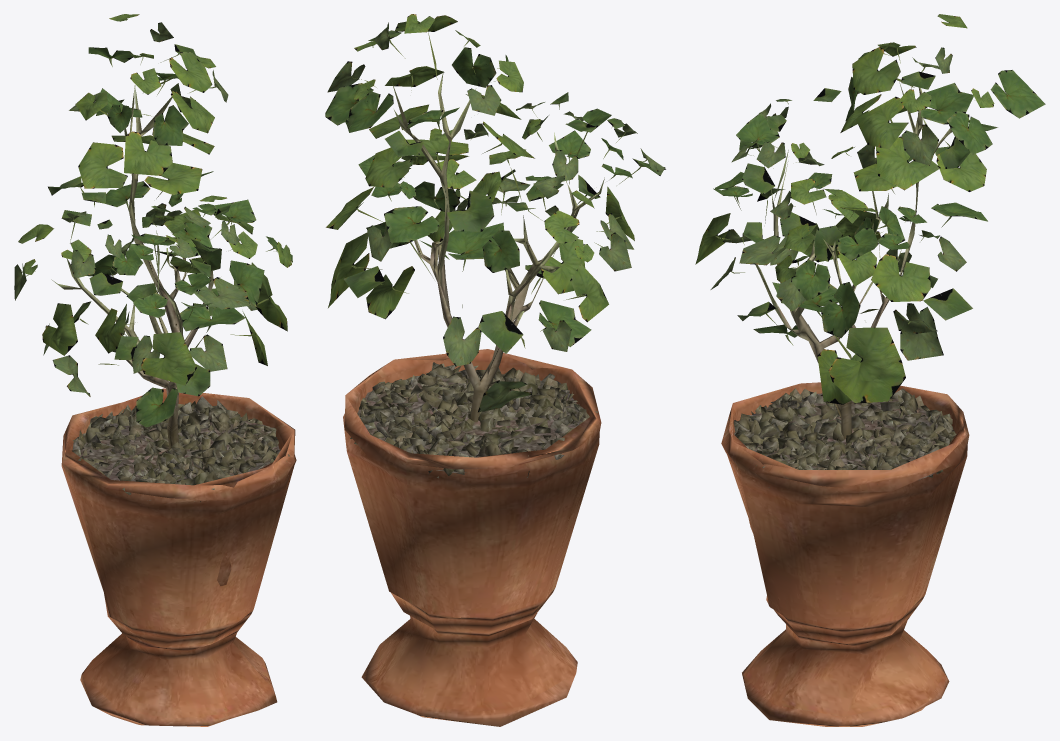
Rendered from ficus.glb.
The picture shows the model from 3 angles, left to right: view 1: azimuth 30°, elevation 25°; view 2: azimuth 150°, elevation 25°; view 3: azimuth 270°, elevation 25°; orthographic projection. The views are drawn at different scales.
Visible parts, largest first — view 1: potted_plant_01_pot, potted_plant_01_leaves, potted_plant_01_pebbles, potted_plant_01_stem; view 2: potted_plant_01_pot, potted_plant_01_leaves, potted_plant_01_pebbles, potted_plant_01_stem; view 3: potted_plant_01_pot, potted_plant_01_leaves, potted_plant_01_pebbles, potted_plant_01_stem.
Part boxes in pixels (bbox=[...]): potted_plant_01_pot: bbox=[61, 388, 296, 726]; potted_plant_01_leaves: bbox=[14, 14, 292, 427]; potted_plant_01_pebbles: bbox=[67, 396, 293, 501]; potted_plant_01_stem: bbox=[51, 85, 220, 448]; potted_plant_01_pot: bbox=[343, 349, 601, 726]; potted_plant_01_leaves: bbox=[325, 14, 665, 412]; potted_plant_01_pebbles: bbox=[350, 362, 597, 478]; potted_plant_01_stem: bbox=[392, 72, 604, 422]; potted_plant_01_pot: bbox=[721, 382, 969, 726]; potted_plant_01_leaves: bbox=[695, 14, 1045, 404]; potted_plant_01_pebbles: bbox=[729, 388, 964, 487]; potted_plant_01_stem: bbox=[755, 82, 964, 439].
Size of the model in its own units: 0.4834 by 1.1 by 0.5221.
2 materials, 2 textured.
